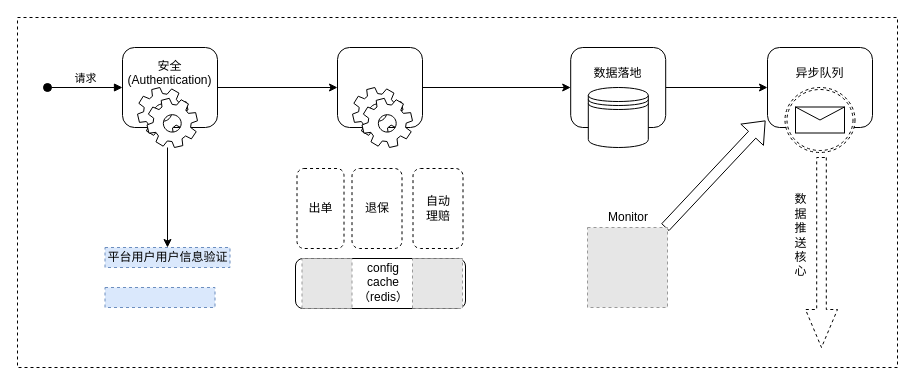
The diagram is 915 pixels wide and 385 high, and some of its shapes have lost their labels. Grey dashed boxes stand in for pictures. The box of each missing label's shape, as (x1, y1, x2, y2) in pixels:
mysql: (587, 86, 648, 148)
rabbitmq: (784, 86, 855, 152)
业务校验: (336, 46, 422, 128)
渠道签名token验签: (104, 286, 215, 308)
